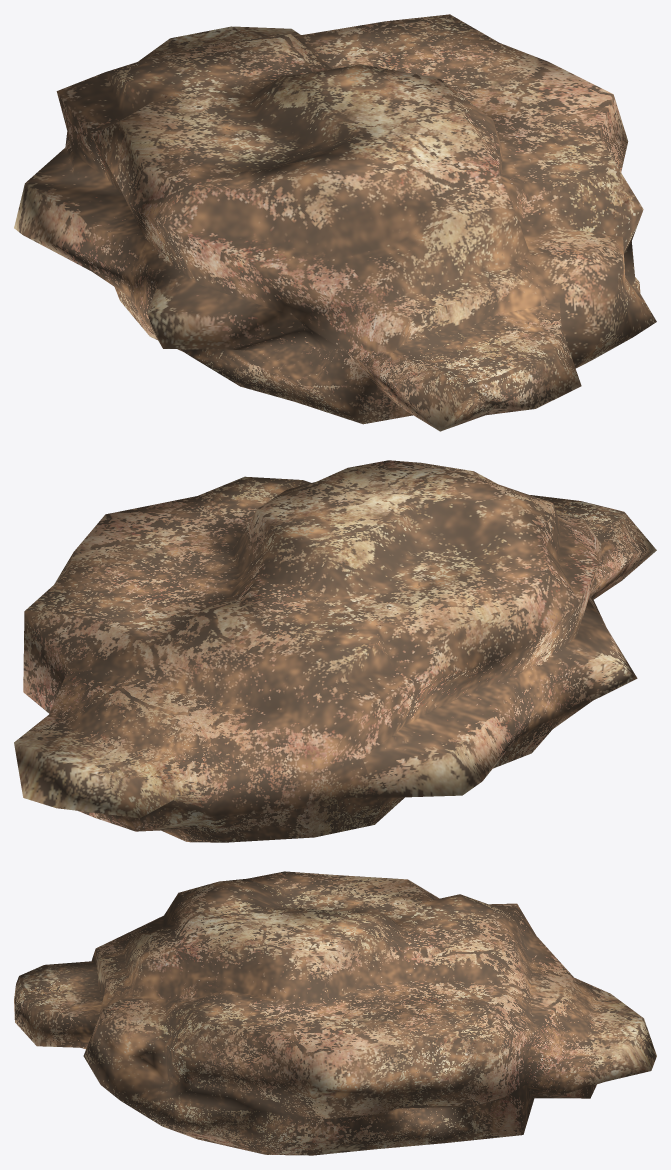
The model's file is Rock1.fbx.
3 renders of one model, top to bottom at view 1: azimuth 30°, elevation 25°; view 2: azimuth 150°, elevation 25°; view 3: azimuth 270°, elevation 25°, orthographic. The views are drawn at different scales.
Parts seen in each view (by area): view 1: Mesh; view 2: Mesh; view 3: Mesh.
Part boxes in pixels (bbox=[...]): Mesh: bbox=[14, 14, 656, 431]; Mesh: bbox=[14, 460, 656, 842]; Mesh: bbox=[14, 871, 656, 1155].
Size of the model in its own units: 2840 by 1251 by 4187.
Materials: 1 (1 with a texture image).
